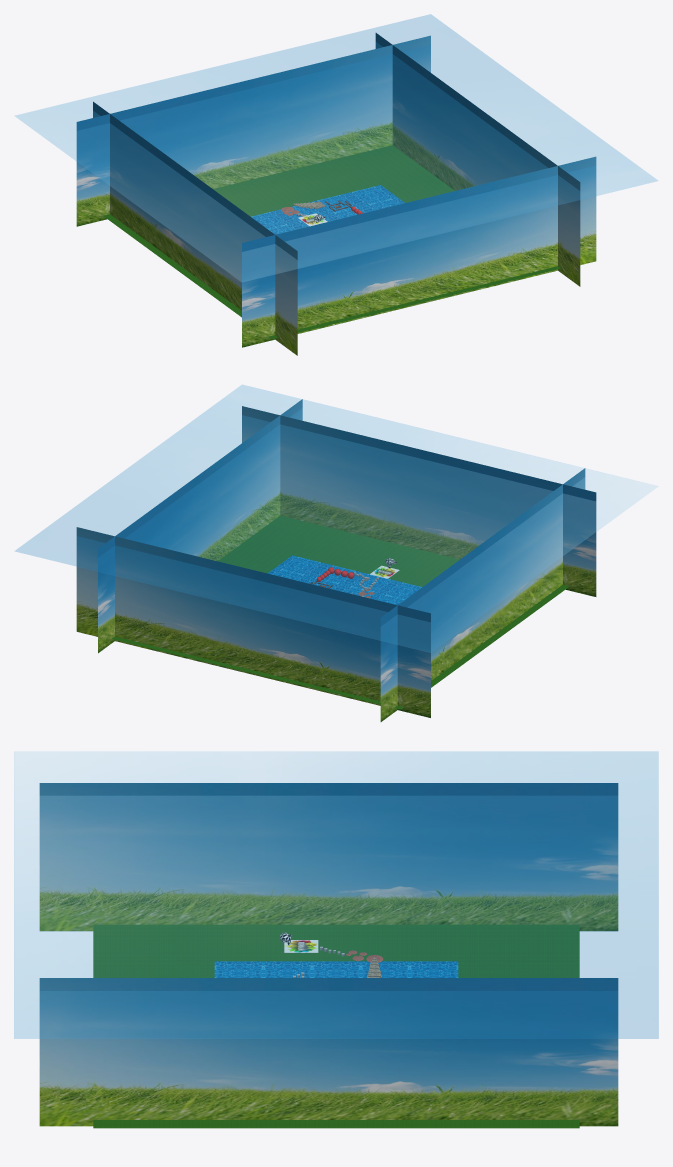
The model's file is game2.gltf.
The picture shows the model from 3 angles, top to bottom: view 1: azimuth 30°, elevation 25°; view 2: azimuth 150°, elevation 25°; view 3: azimuth 270°, elevation 25°; orthographic projection. The views are drawn at different scales.
Visible parts, largest first — view 1: Plane.002, Plane.003, Plane.004, Plane.005, Plane.006, Floor, Plane.001; view 2: Plane.002, Plane.004, Plane.003, Plane.005, Plane.006, Floor, Plane.001; view 3: Plane.002, Plane.005, Plane.006, Floor, Plane.001.
Part boxes in pixels (left/top/right/bottom): Plane.002: left=15, top=14, right=657, bottom=282; Plane.003: left=242, top=156, right=596, bottom=347; Plane.004: left=76, top=35, right=430, bottom=226; Plane.005: left=93, top=101, right=297, bottom=355; Plane.006: left=375, top=33, right=580, bottom=286; Floor: left=103, top=145, right=560, bottom=339; Plane.001: left=251, top=185, right=404, bottom=234; Plane.002: left=15, top=385, right=658, bottom=652; Plane.004: left=76, top=527, right=430, bottom=717; Plane.003: left=242, top=406, right=596, bottom=596; Plane.005: left=380, top=468, right=585, bottom=721; Plane.006: left=98, top=399, right=302, bottom=653; Floor: left=112, top=515, right=569, bottom=709; Plane.001: left=268, top=555, right=421, bottom=605; Plane.002: left=14, top=751, right=658, bottom=1038; Plane.005: left=39, top=783, right=618, bottom=931; Plane.006: left=39, top=978, right=618, bottom=1126; Floor: left=93, top=924, right=579, bottom=1128; Plane.001: left=214, top=961, right=458, bottom=977.
Bounding box in the file's own units: 833 × 200 × 789.
Materials: 11 (11 with a texture image).
